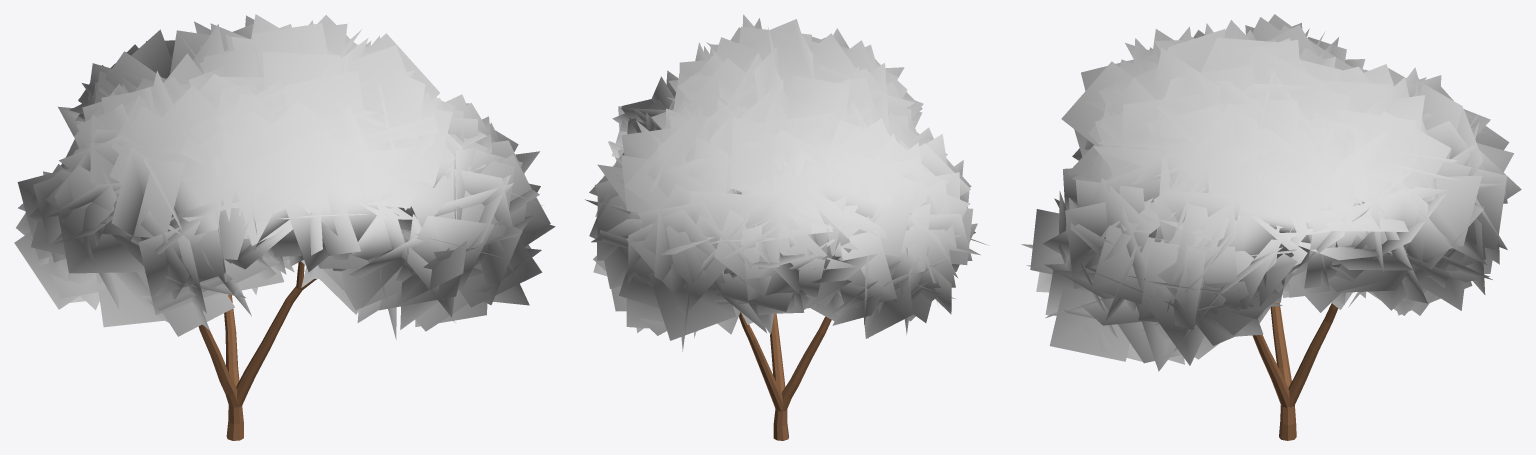
The model's file is Tree_LOD2.fbx.
The picture shows the model from 3 angles, left to right: view 1: azimuth 30°, elevation 25°; view 2: azimuth 150°, elevation 25°; view 3: azimuth 270°, elevation 25°; orthographic projection. The views are drawn at different scales.
Parts seen in each view (by area): view 1: LOD_1; view 2: LOD_1; view 3: LOD_1.
Part boxes in pixels (<box>): LOD_1: <box>14,14,555,440</box>; LOD_1: <box>585,14,988,440</box>; LOD_1: <box>1021,14,1521,440</box>.
Bounding box in the file's own units: 1820 × 1699 × 1912.
